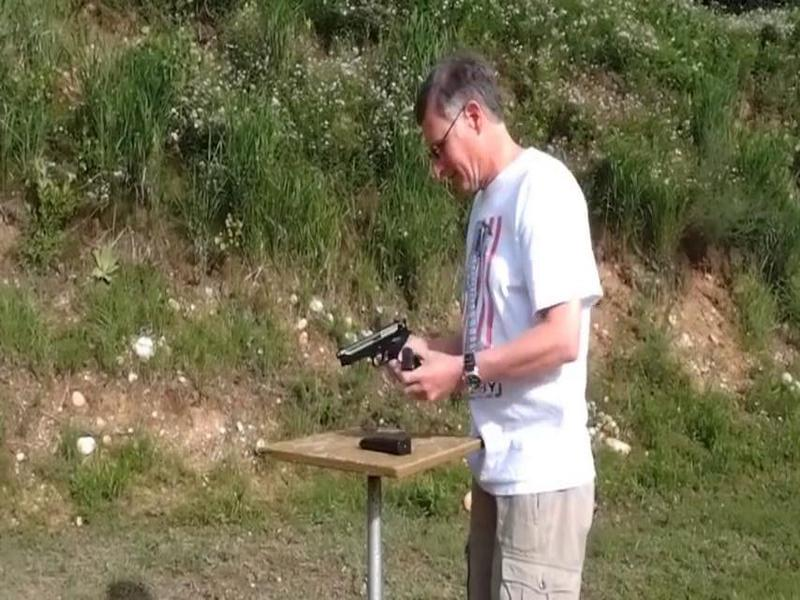Pistola: (327, 311, 435, 386)
